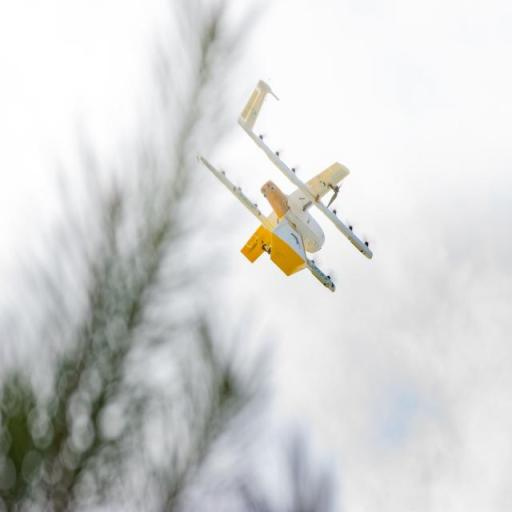uav: (188, 68, 382, 309)
